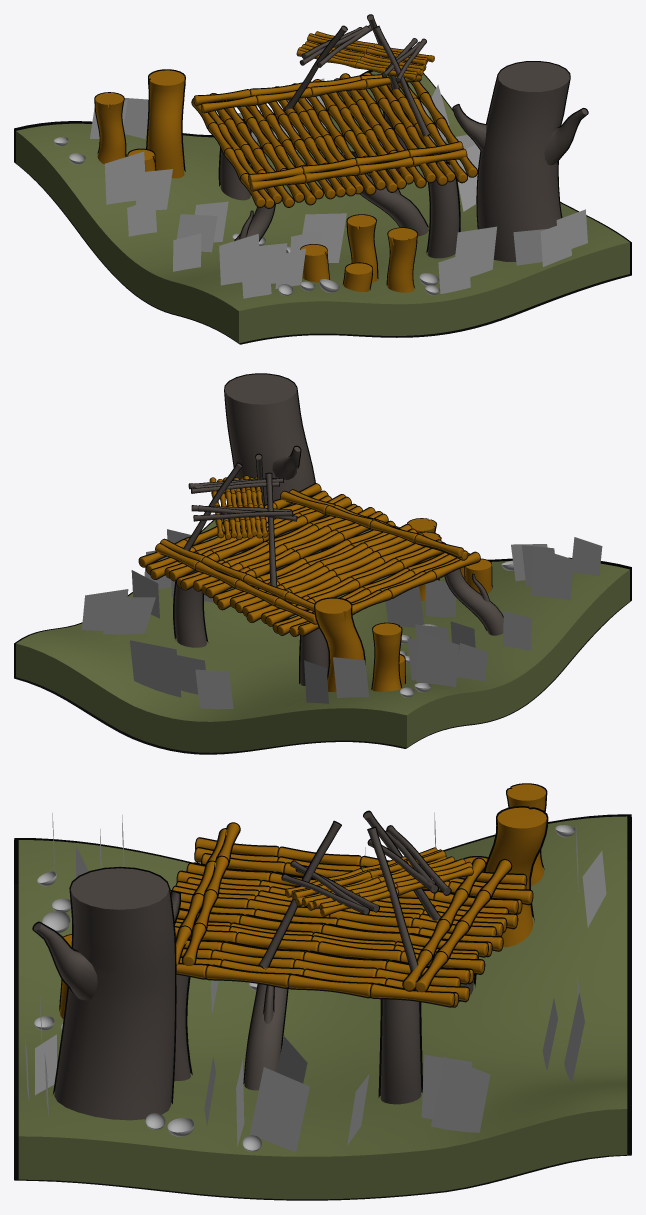
File: CartoonEnvironment_01.fbx
The picture shows the model from 3 angles, top to bottom: view 1: azimuth 30°, elevation 25°; view 2: azimuth 150°, elevation 25°; view 3: azimuth 270°, elevation 25°; orthographic projection. The views are drawn at different scales.
Parts seen in each view (by area): view 1: Ground_Geo, Logs_Geo, BambooDeck_01_Geo, GrassPlanes, BambooDeck_01_Outline, BambooDeck_02_Geo, Logs_Outline, Ground_Outline, BambooDeck_02_Outline, pSphere16; view 2: Ground_Geo, BambooDeck_01_Geo, GrassPlanes, Logs_Geo, BambooDeck_01_Outline, BambooDeck_02_Geo, BambooDeck_02_Outline, Logs_Outline, Ground_Outline, pSphere16; view 3: Ground_Geo, Logs_Geo, BambooDeck_01_Geo, GrassPlanes, BambooDeck_01_Outline, BambooDeck_02_Geo, Ground_Outline, BambooDeck_02_Outline, Logs_Outline, pSphere16.
Part boxes in pixels (x1,y1,x2,y2): Ground_Geo: (16,71,629,343); Logs_Geo: (95,62,587,292); BambooDeck_01_Geo: (192,72,477,207); GrassPlanes: (90,78,587,298); BambooDeck_01_Outline: (191,72,477,208); BambooDeck_02_Geo: (285,15,434,136); Logs_Outline: (94,61,588,290); Ground_Outline: (14,70,631,344); BambooDeck_02_Outline: (284,14,434,136); pSphere16: (54,137,439,295); Ground_Geo: (16,519,629,752); BambooDeck_01_Geo: (139,484,479,636); GrassPlanes: (82,526,602,709); Logs_Geo: (174,374,503,691); BambooDeck_01_Outline: (138,483,480,636); BambooDeck_02_Geo: (183,454,296,586); BambooDeck_02_Outline: (176,453,297,586); Logs_Outline: (173,373,503,689); Ground_Outline: (14,513,631,754); pSphere16: (400,560,514,697); Ground_Geo: (18,816,627,1199); Logs_Geo: (34,784,546,1120); BambooDeck_01_Geo: (170,823,532,1006); GrassPlanes: (25,812,606,1152); BambooDeck_01_Outline: (170,822,533,1007); BambooDeck_02_Geo: (259,812,472,976); Ground_Outline: (14,814,631,1200); BambooDeck_02_Outline: (258,810,473,975); Logs_Outline: (32,783,548,1103); pSphere16: (34,825,575,1151).
Size of the model in its own units: 11.66 by 6.35 by 11.66.
